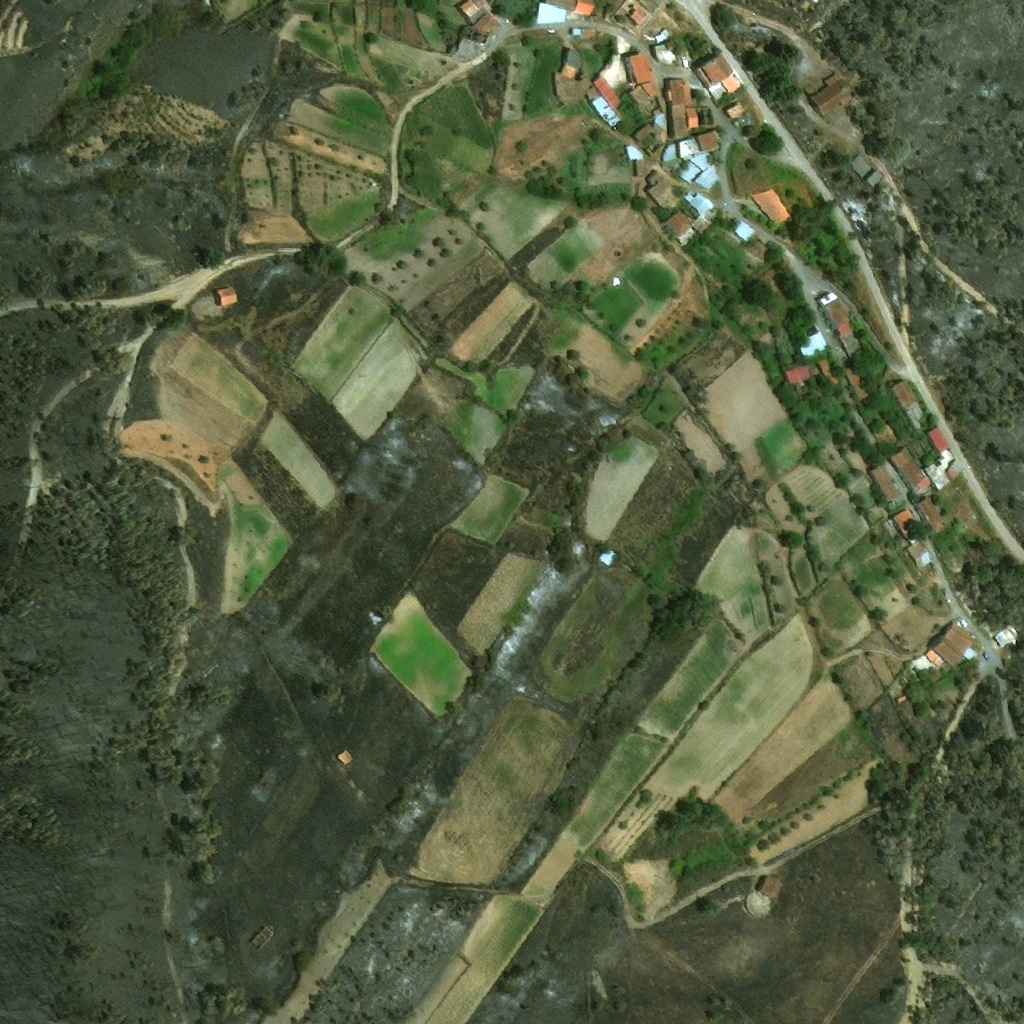0 no-damage: (819, 292, 865, 356), (809, 68, 857, 116), (890, 446, 933, 495), (932, 622, 977, 668), (926, 426, 957, 490), (870, 460, 910, 509), (749, 186, 793, 226), (646, 168, 680, 213), (684, 190, 716, 235), (696, 53, 734, 87), (466, 11, 498, 47), (555, 72, 592, 103), (665, 78, 685, 135), (594, 75, 624, 109), (919, 495, 949, 529), (893, 508, 922, 543), (591, 95, 621, 127), (907, 539, 937, 571), (629, 51, 656, 86), (925, 646, 956, 676), (798, 330, 830, 359), (993, 620, 1023, 649), (845, 365, 869, 399), (905, 399, 931, 430), (458, 0, 491, 24), (535, 1, 568, 25), (666, 208, 693, 235), (694, 164, 722, 190), (708, 80, 735, 106), (893, 378, 918, 406), (561, 48, 584, 78), (818, 358, 841, 387), (680, 151, 712, 170), (678, 160, 702, 184), (732, 219, 756, 243), (630, 1, 652, 26), (679, 134, 702, 157), (756, 874, 778, 898), (698, 128, 720, 151), (785, 365, 810, 385), (634, 123, 661, 141), (655, 44, 676, 65), (651, 107, 667, 134), (629, 85, 649, 105), (574, 0, 597, 16), (677, 226, 696, 245), (727, 102, 746, 120), (948, 459, 963, 479), (687, 107, 700, 130), (654, 28, 672, 44), (625, 145, 644, 160), (585, 86, 601, 103), (806, 361, 821, 377), (641, 81, 658, 95), (571, 27, 596, 36), (663, 144, 676, 161), (684, 84, 692, 107), (749, 127, 761, 139), (636, 160, 644, 175), (667, 40, 676, 50)
1 minor-damage: (850, 152, 886, 186), (595, 545, 619, 568), (216, 285, 237, 307), (337, 748, 353, 763)
4 un-classified: (544, 0, 575, 10)
